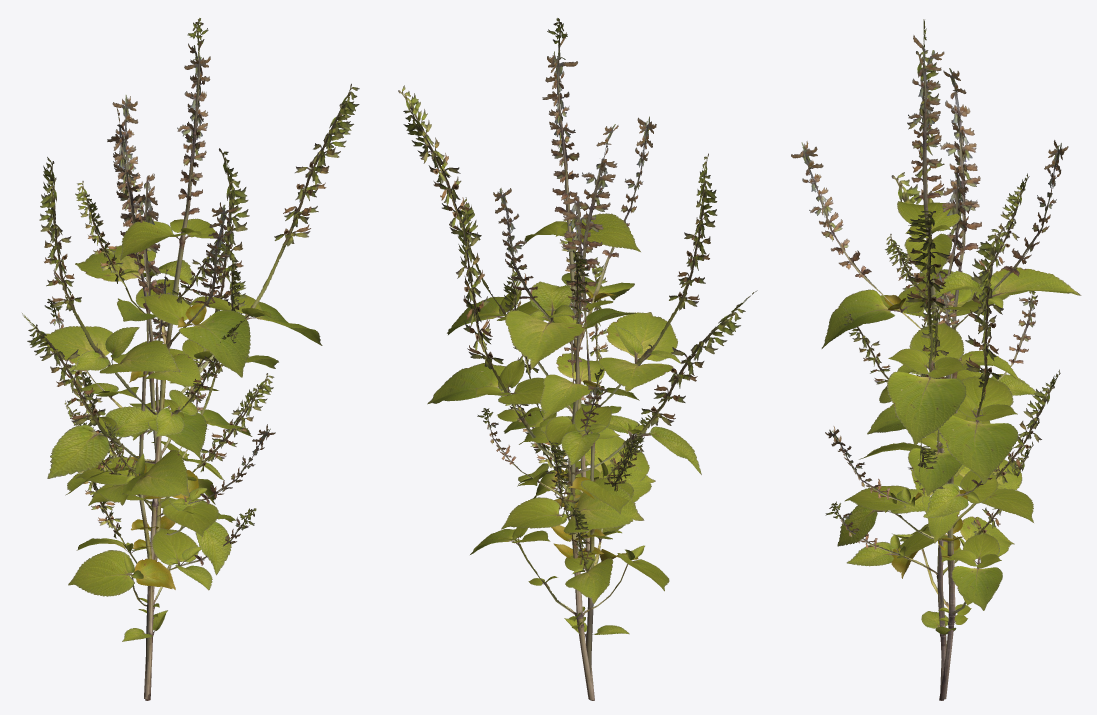
The model's file is shrub_03.glb.
The picture shows the model from 3 angles, left to right: view 1: azimuth 30°, elevation 25°; view 2: azimuth 150°, elevation 25°; view 3: azimuth 270°, elevation 25°; orthographic projection. The views are drawn at different scales.
Visible parts, largest first — view 1: shrub_03_a, shrub_03_b, shrub_03_c, shrub_03_d; view 2: shrub_03_a, shrub_03_b, shrub_03_c, shrub_03_d; view 3: shrub_03_a, shrub_03_b, shrub_03_c, shrub_03_d.
Boxes of the visible parts, left/top/right/bottom form: shrub_03_a: left=39, top=18, right=359, bottom=700; shrub_03_b: left=22, top=105, right=278, bottom=625; shrub_03_c: left=44, top=173, right=256, bottom=698; shrub_03_d: left=68, top=266, right=236, bottom=699; shrub_03_a: left=398, top=18, right=717, bottom=700; shrub_03_b: left=427, top=124, right=757, bottom=629; shrub_03_c: left=503, top=196, right=639, bottom=695; shrub_03_d: left=470, top=270, right=669, bottom=700; shrub_03_a: left=791, top=19, right=1081, bottom=700; shrub_03_b: left=825, top=68, right=1060, bottom=669; shrub_03_c: left=825, top=167, right=1037, bottom=692; shrub_03_d: left=837, top=271, right=1002, bottom=699.
Size of the model in its own units: 0.2197 by 0.4028 by 0.1512.
Materials: 1 (1 with a texture image).
